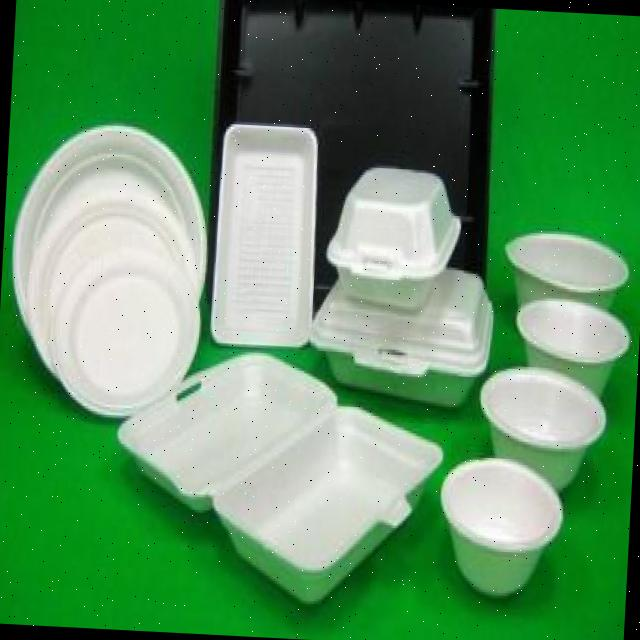styrofoam: (204, 394, 446, 612), (112, 343, 338, 519)
